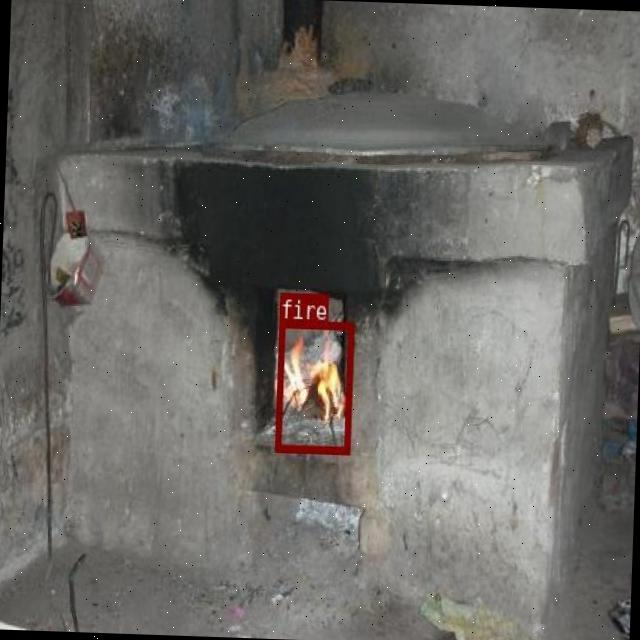fire: (274, 318, 353, 452)
